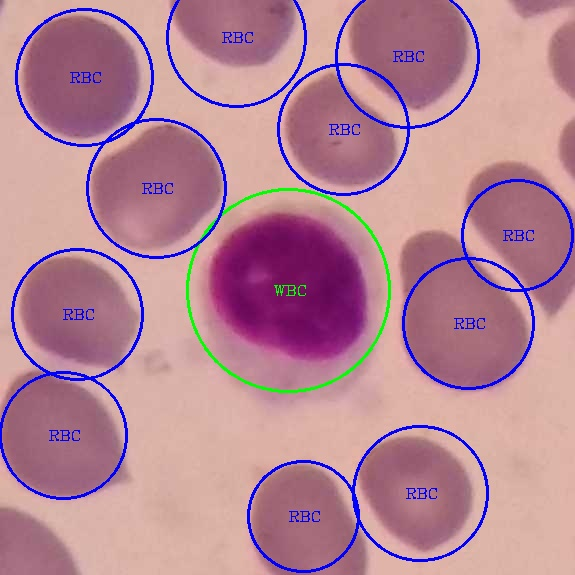RBC: (398, 229, 531, 397), (88, 122, 225, 253), (1, 367, 131, 503), (464, 158, 573, 319), (19, 12, 147, 145), (15, 252, 139, 380), (284, 72, 402, 193), (360, 434, 476, 556), (347, 1, 471, 115), (249, 460, 365, 574), (166, 1, 304, 69)
WBC: (196, 201, 389, 409)
